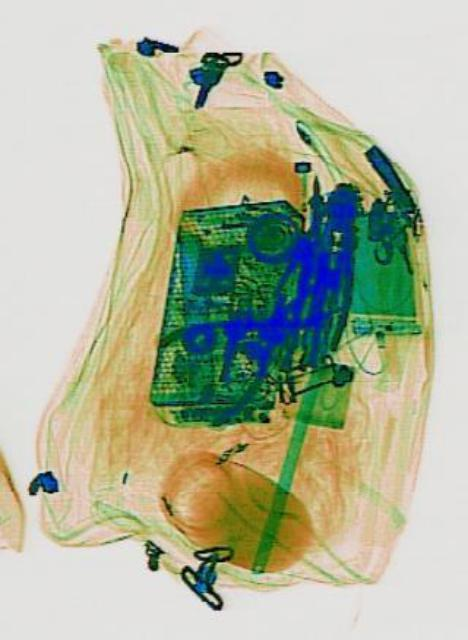Pliers: (156, 264, 314, 436)
